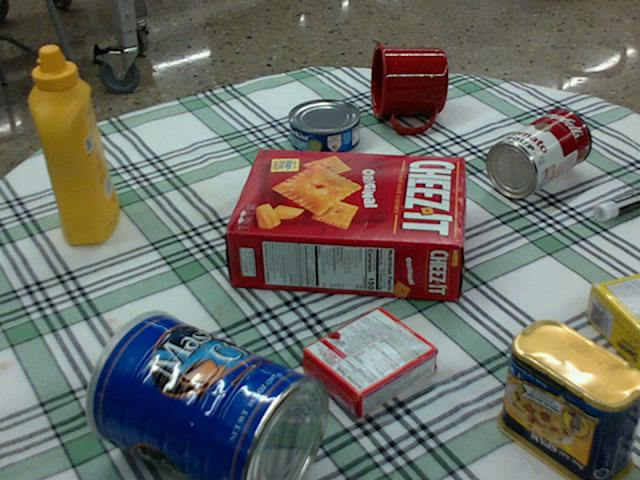cracker_box: (224, 146, 464, 302)
gelatin_box: (301, 307, 439, 414)
large_marker: (593, 189, 639, 219)
master_chef_can: (83, 313, 327, 479)
mug: (368, 41, 448, 132)
mustard_bottle: (28, 45, 118, 244)
potted_meat_can: (497, 317, 639, 479)
sugar_box: (588, 275, 639, 376)
tomato_soup_can: (485, 107, 590, 196)
tuna_fish_can: (287, 99, 359, 155)
